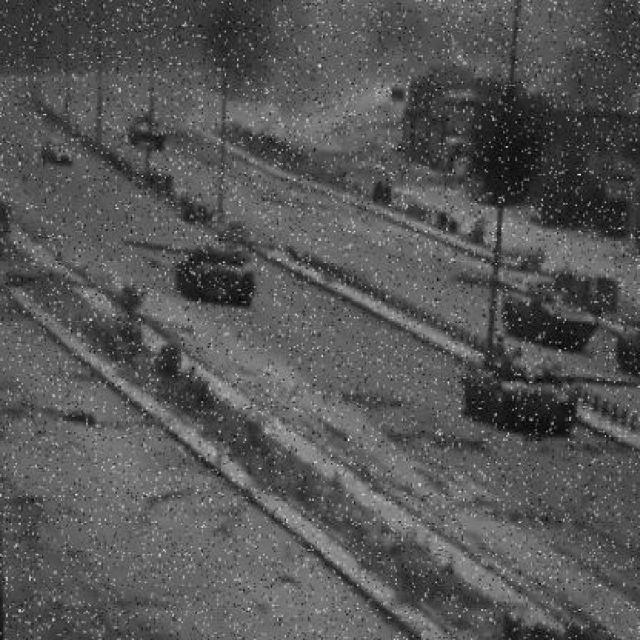Tank: (461, 354, 639, 433), (472, 276, 605, 353), (125, 234, 256, 308), (596, 313, 640, 381), (131, 113, 169, 152)
